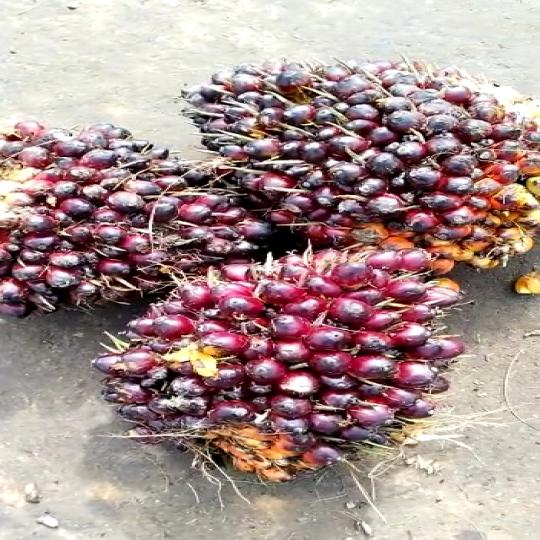kurang masak: (107, 244, 458, 508), (179, 50, 540, 255), (0, 110, 256, 331)
